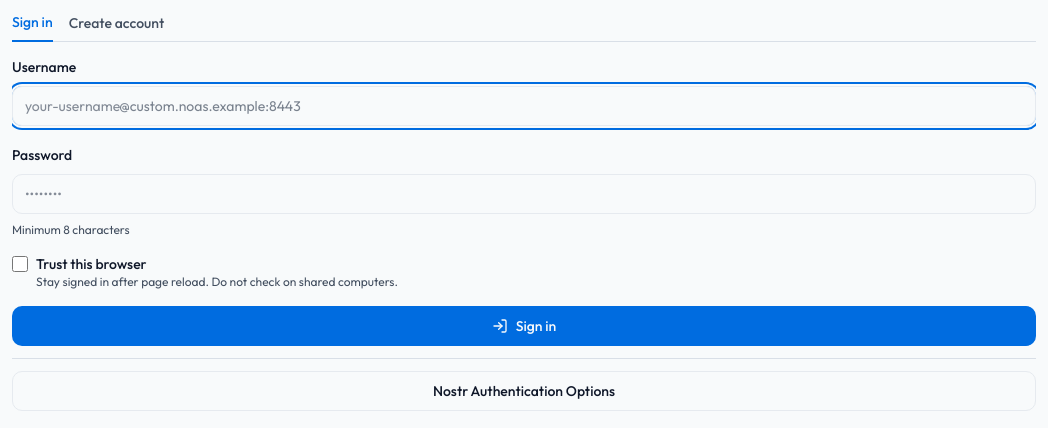
Test: Noas auth forms › shows the configured host as a grey inline suffix until the user types @
Expected: the text with test id "noas-username-suffix" reads "@custom.noas.example:8443", [119,96,301,116]
Type "alice@other.example" into the field labelled "Username" at (524,106), box [12,86,1036,126]
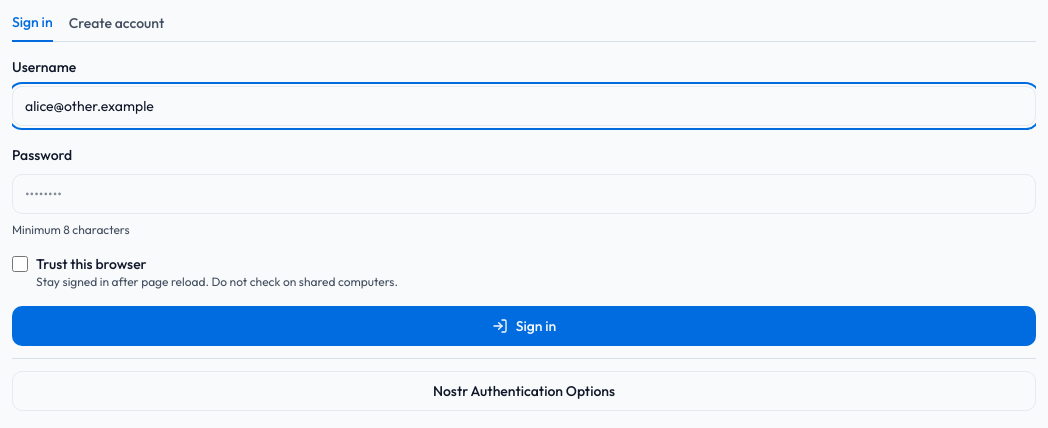
Expected: the text with test id "noas-username-suffix" is gone
